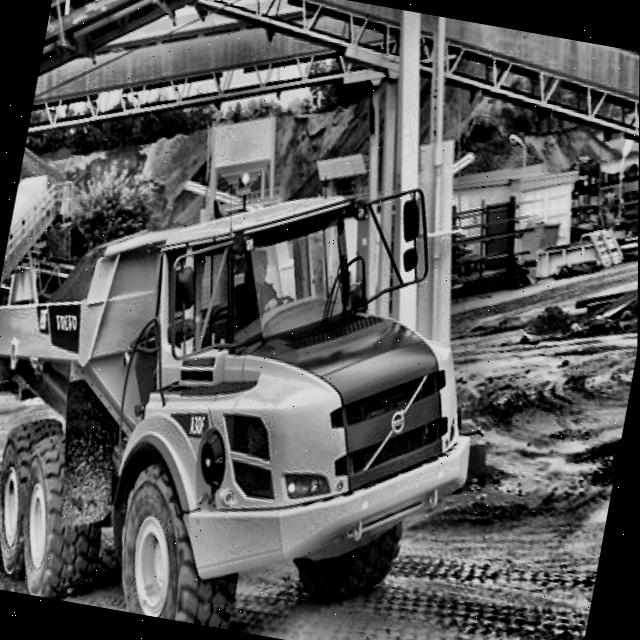dump_truck: (0, 119, 548, 640)
